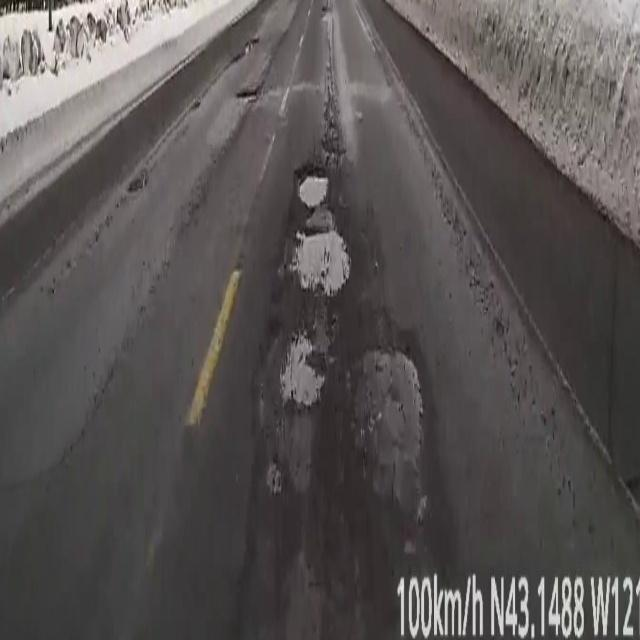pothole: (356, 353, 422, 515), (291, 176, 350, 296), (280, 332, 322, 403)
